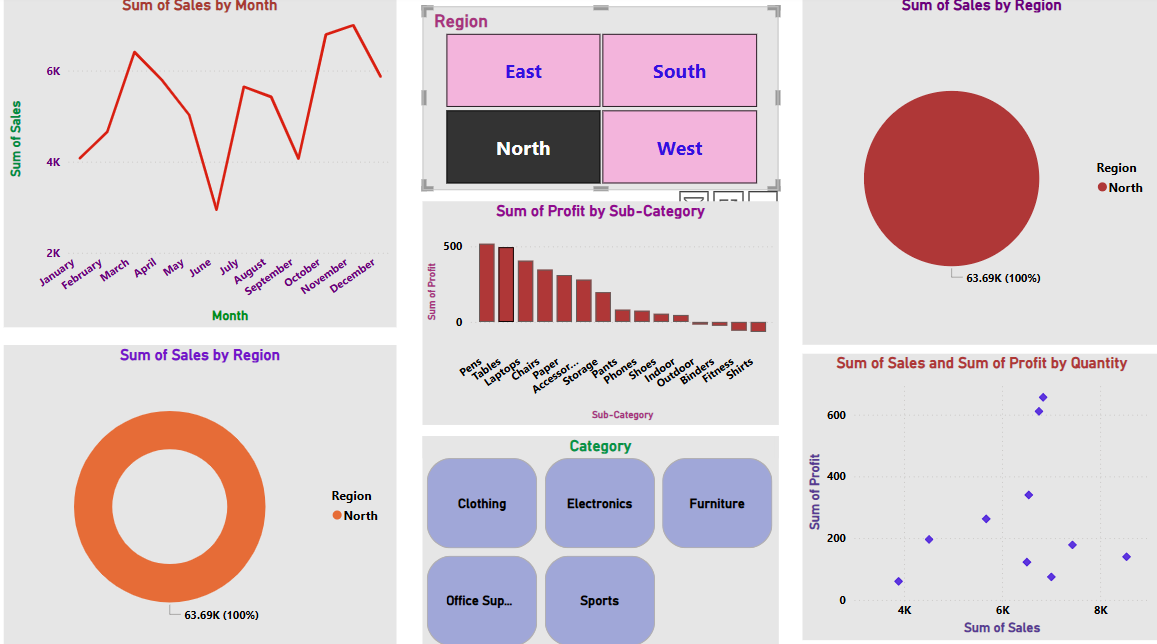

This screenshot's page, from the dashboard's own definition file:
{"tool":"powerbi","page":{"name":"Page 1","canvas":[1280,720],"ordinal":0},"visuals":[{"type":"lineChart","fields":{"Y":["Sum(Sheet1.Sales)"],"Category":["Sheet1.Order Date.Variation.Date Hierarchy.Month"]},"box":[9.6,0,430.9,365],"z":0},{"type":"donutChart","fields":{"Y":["Sum(Sheet1.Sales)"],"Category":["Sheet1.Region"]},"box":[9.6,384.2,430.9,336.2],"z":1000},{"type":"advancedSlicerVisual","fields":{"Values":["Sheet1.Category"]},"box":[469.3,484.4,391.1,236],"z":2000},{"type":"slicer","fields":{"Values":["Sheet1.Region"]},"box":[469.3,12.3,391.1,201.7],"z":3000},{"type":"clusteredColumnChart","fields":{"Category":["Sheet1.Sub-Category"],"Y":["Sum(Sheet1.Profit)"]},"box":[469.3,226.4,391.1,245.6],"z":4000},{"type":"pieChart","fields":{"Y":["Sum(Sheet1.Sales)"],"Category":["Sheet1.Region"]},"box":[886.5,0,393.8,384.2],"z":5000},{"type":"scatterChart","fields":{"X":["Sum(Sheet1.Sales)"],"Y":["Sum(Sheet1.Profit)"],"Category":["Sheet1.Quantity"]},"box":[886.5,393.8,393.8,314.2],"z":6000}]}

Visuals, with their boxes in screenshot pixels (x1, y1, x2, y2), scaled from the page's 1280x720 canvas onto the 1157x644 screenshot:
lineChart - Sum(Sheet1.Sales) x Sheet1.Order Date.Variation.Date Hierarchy.Month: x1=9, y1=0, x2=398, y2=326
donutChart - Sum(Sheet1.Sales) x Sheet1.Region: x1=9, y1=344, x2=398, y2=643
advancedSlicerVisual - Sheet1.Category: x1=424, y1=433, x2=778, y2=643
slicer - Sheet1.Region: x1=424, y1=11, x2=778, y2=191
clusteredColumnChart - Sheet1.Sub-Category x Sum(Sheet1.Profit): x1=424, y1=203, x2=778, y2=422
pieChart - Sum(Sheet1.Sales) x Sheet1.Region: x1=801, y1=0, x2=1156, y2=344
scatterChart - Sum(Sheet1.Sales) x Sum(Sheet1.Profit): x1=801, y1=352, x2=1156, y2=633
